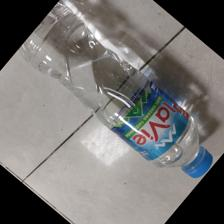Lavie: (16, 1, 215, 180)
